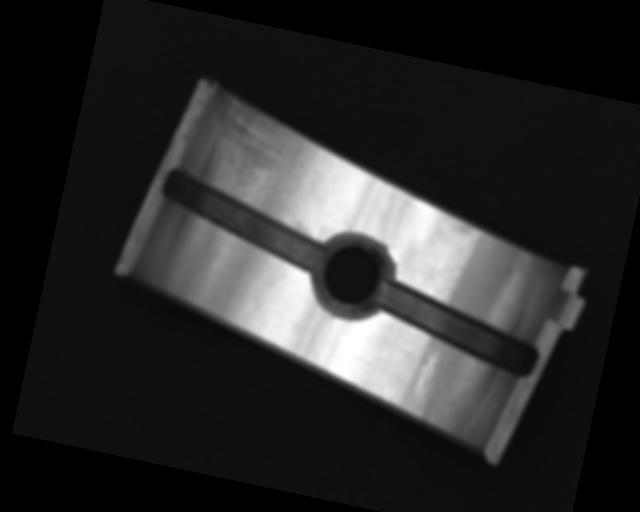gap: (152, 169, 336, 275), (364, 281, 547, 380)
hole: (302, 223, 402, 329)
nick: (409, 343, 440, 422)
scratch: (192, 91, 336, 236)
